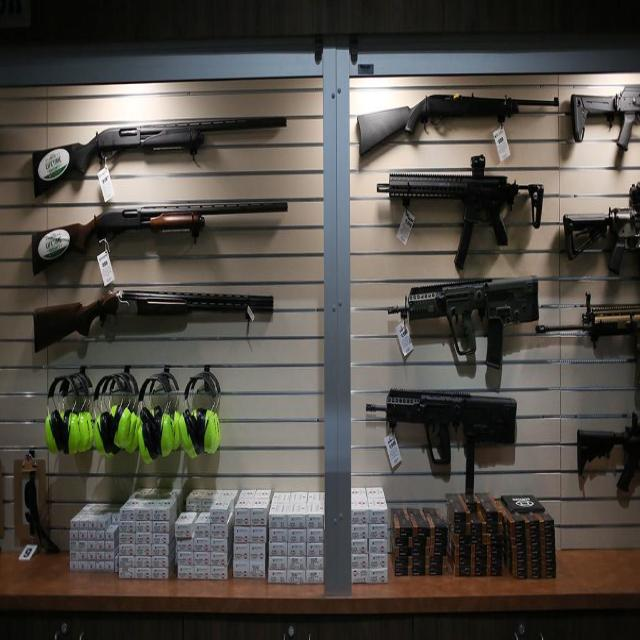Rifle: (374, 279, 539, 370), (357, 95, 559, 154)
SMG: (376, 155, 544, 270), (386, 389, 517, 495)
ShotGun: (32, 117, 288, 197), (31, 203, 288, 275), (32, 291, 274, 351)
